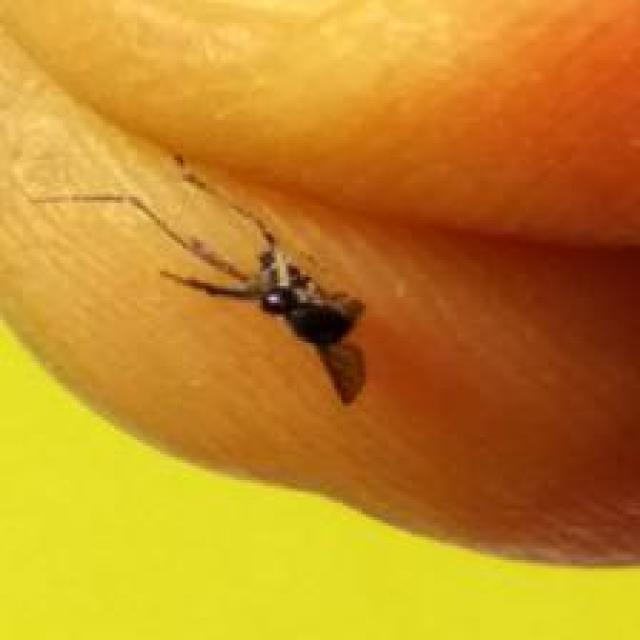Aedes albopictus: (26, 151, 368, 406)
